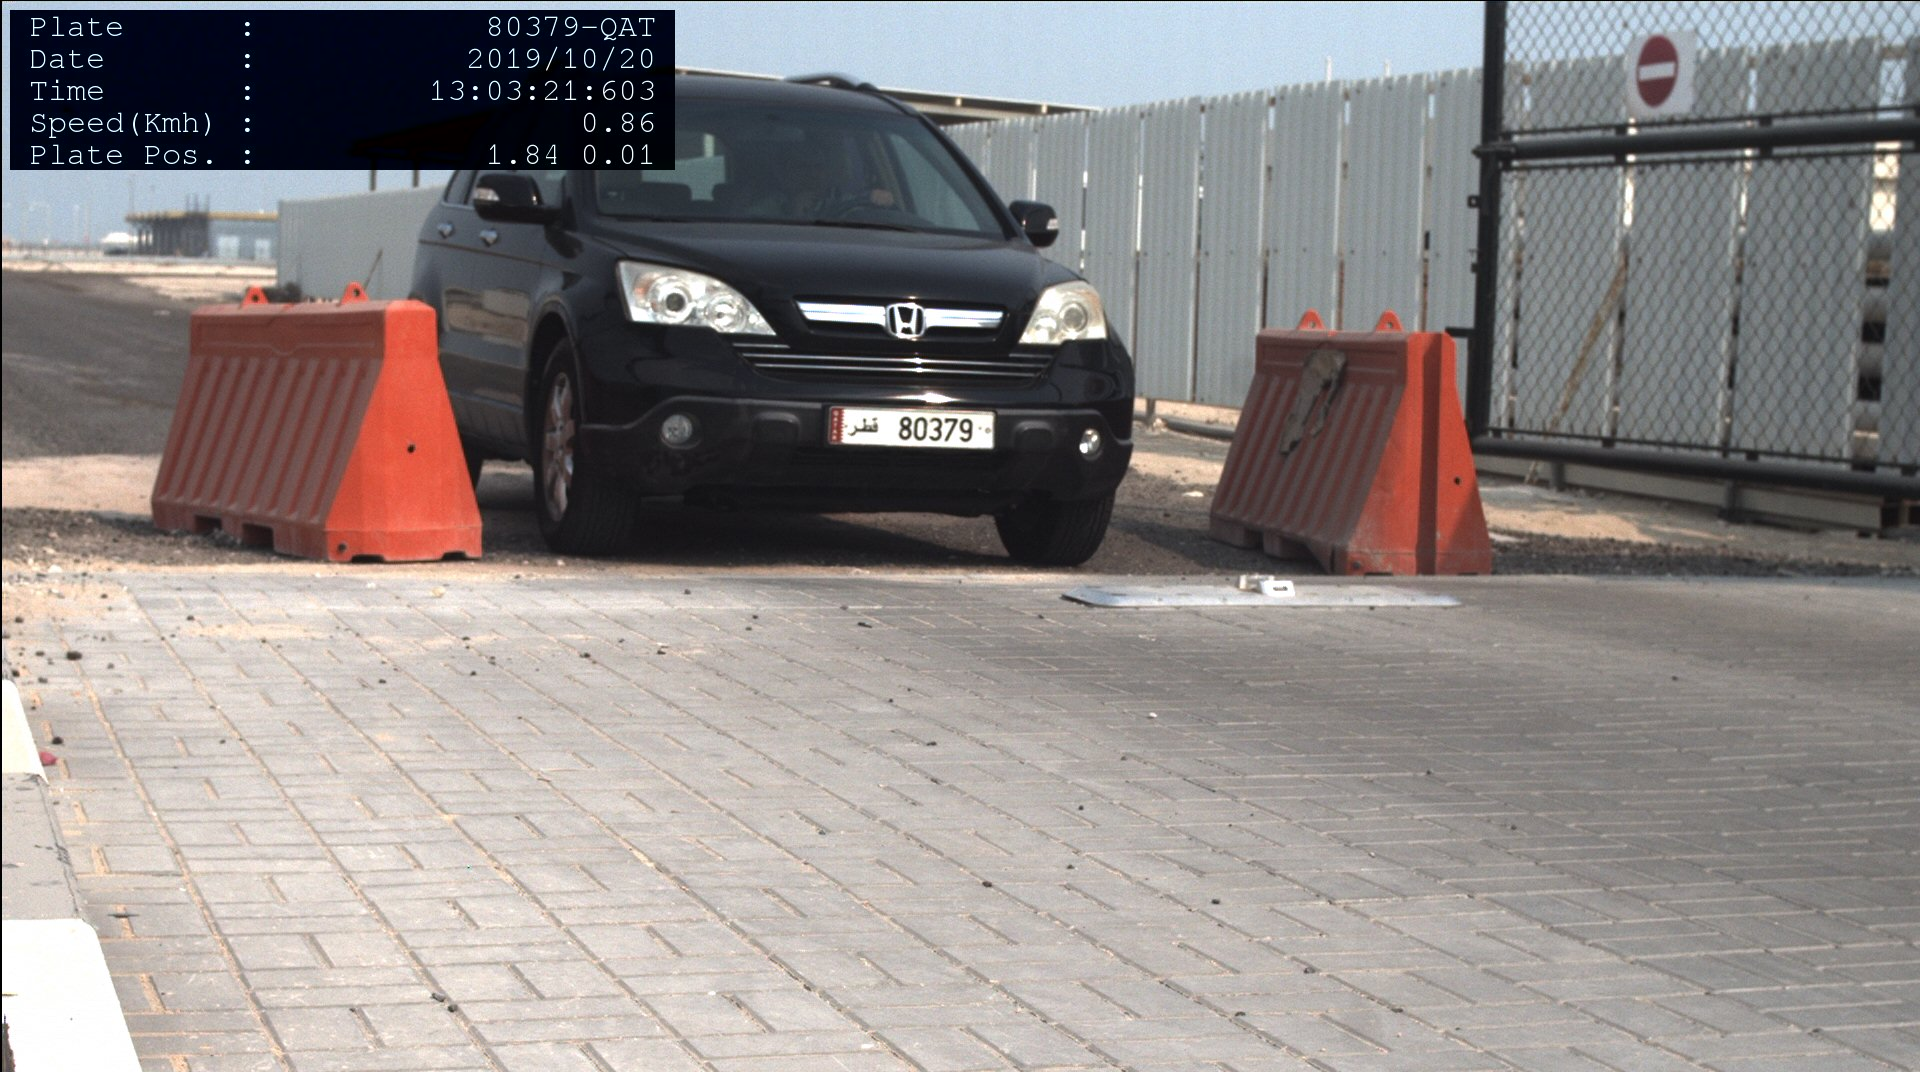License Plate: (828, 406, 998, 450)
